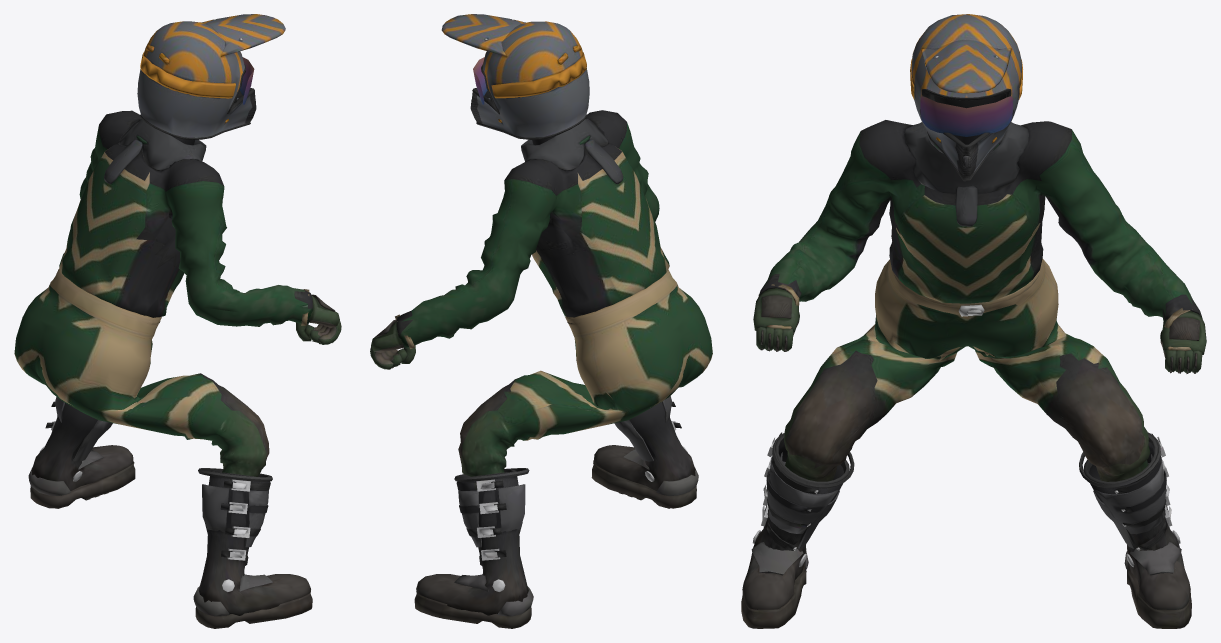
File: rider-seated.glb
The picture shows the model from 3 angles, left to right: view 1: azimuth 30°, elevation 25°; view 2: azimuth 150°, elevation 25°; view 3: azimuth 270°, elevation 25°; orthographic projection. The views are drawn at different scales.
Parts seen in each view (by area): view 1: SK_Rider_LOD1_glb; view 2: SK_Rider_LOD1_glb; view 3: SK_Rider_LOD1_glb.
Part boxes in pixels (box(x1,y1,x2,y2)): SK_Rider_LOD1_glb: box(14, 14, 341, 628); SK_Rider_LOD1_glb: box(370, 14, 712, 628); SK_Rider_LOD1_glb: box(741, 14, 1206, 628).
Bounding box in the file's own units: 0.7444 × 1.51 × 1.07.
1 material, 1 textured.
